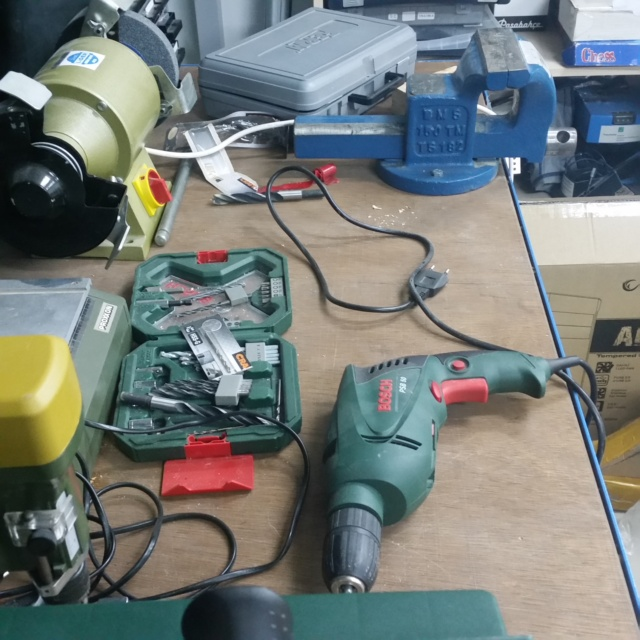drill: (318, 344, 582, 598)
